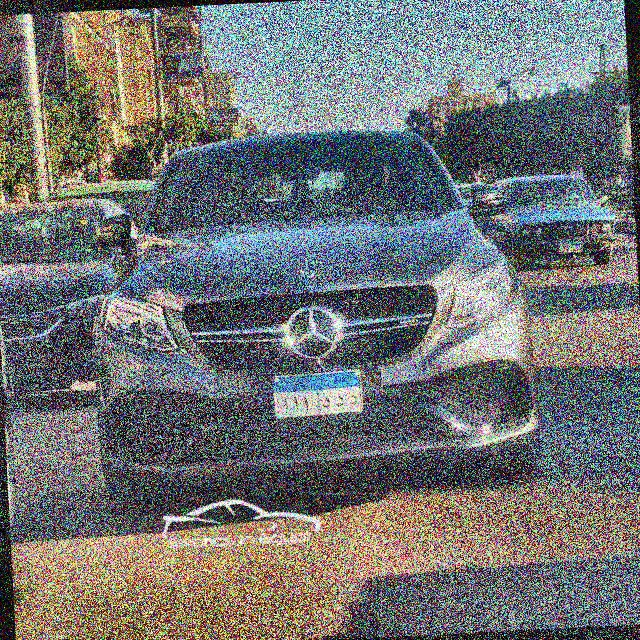License Plate: (271, 368, 365, 421), (558, 238, 584, 254)
